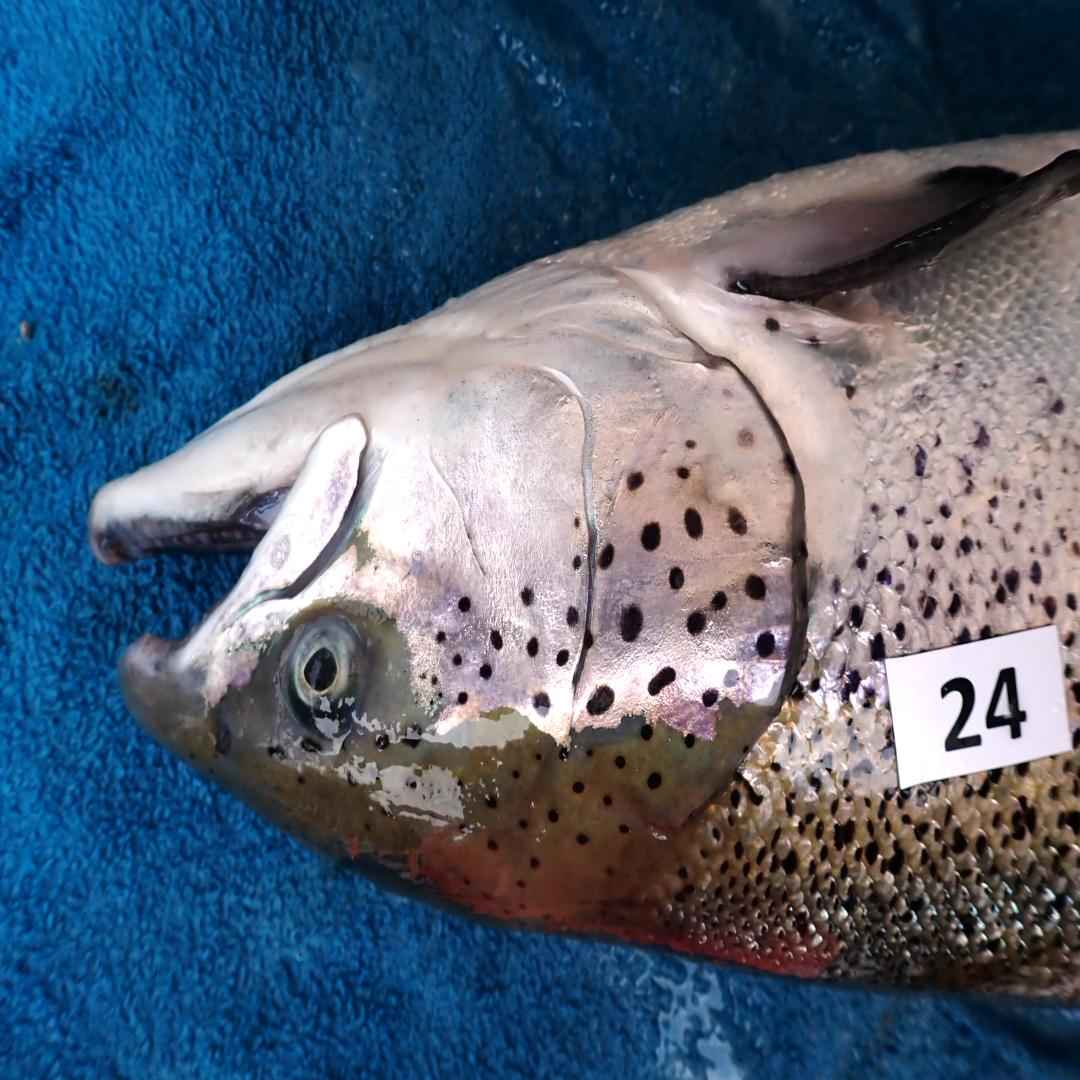roi: (371, 257, 807, 740)
